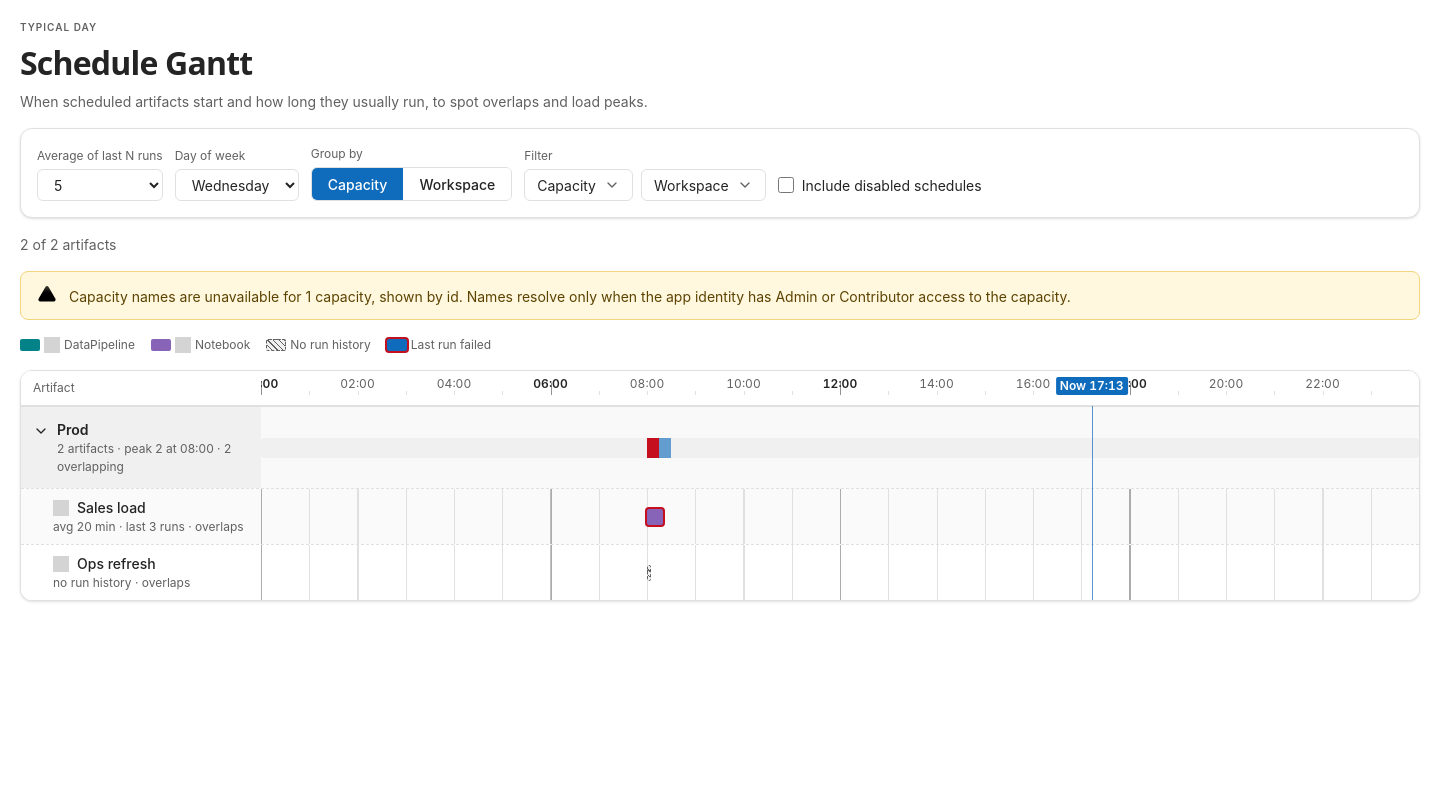
it: Gantt bar tooltip › opens on keyboard focus with the artifact details
Focus the picture named "Sales load: 08:00": (655, 516) [647, 508, 663, 524]
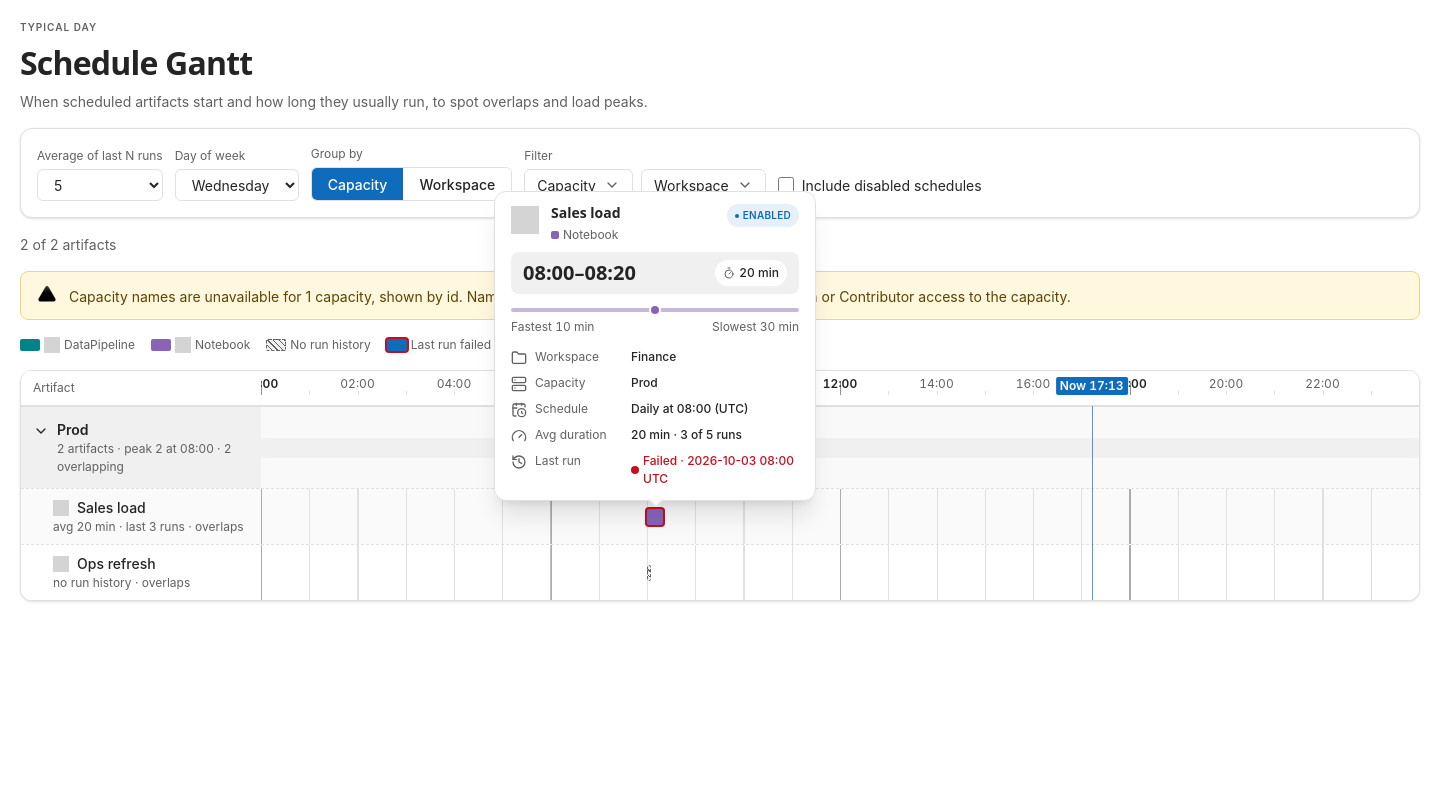
Expected: the text "Sales load" next to "Enabled" is shown, [551, 203, 621, 222]
Expected: the text "Notebook" is shown, [551, 226, 618, 242]
Expected: the text "Finance" is shown, [631, 348, 676, 364]
